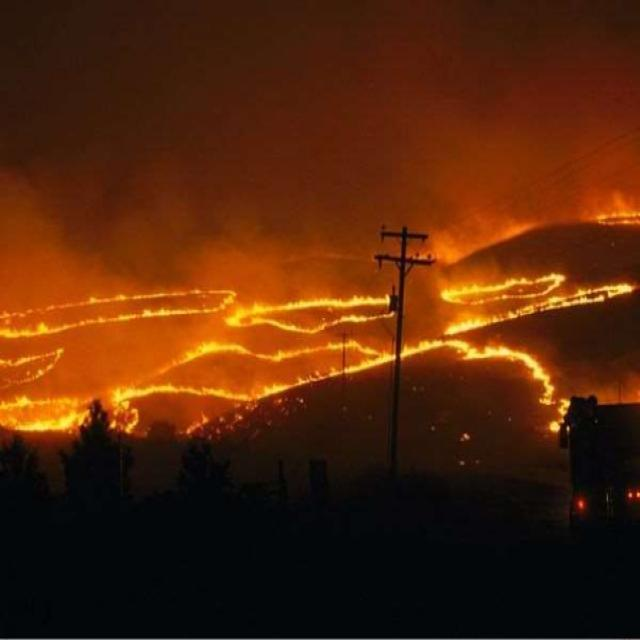Fire: (449, 270, 638, 336), (1, 284, 241, 329), (476, 327, 570, 428), (98, 373, 254, 429), (162, 330, 384, 368), (232, 291, 390, 333), (1, 392, 101, 442), (441, 266, 561, 305), (0, 336, 66, 394), (394, 328, 482, 364)
Smoke: (4, 0, 636, 221)
